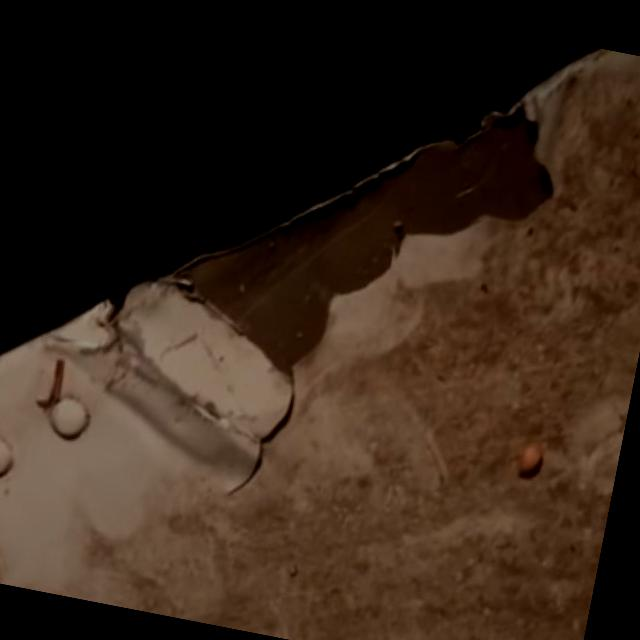crack: (240, 390, 320, 504)
